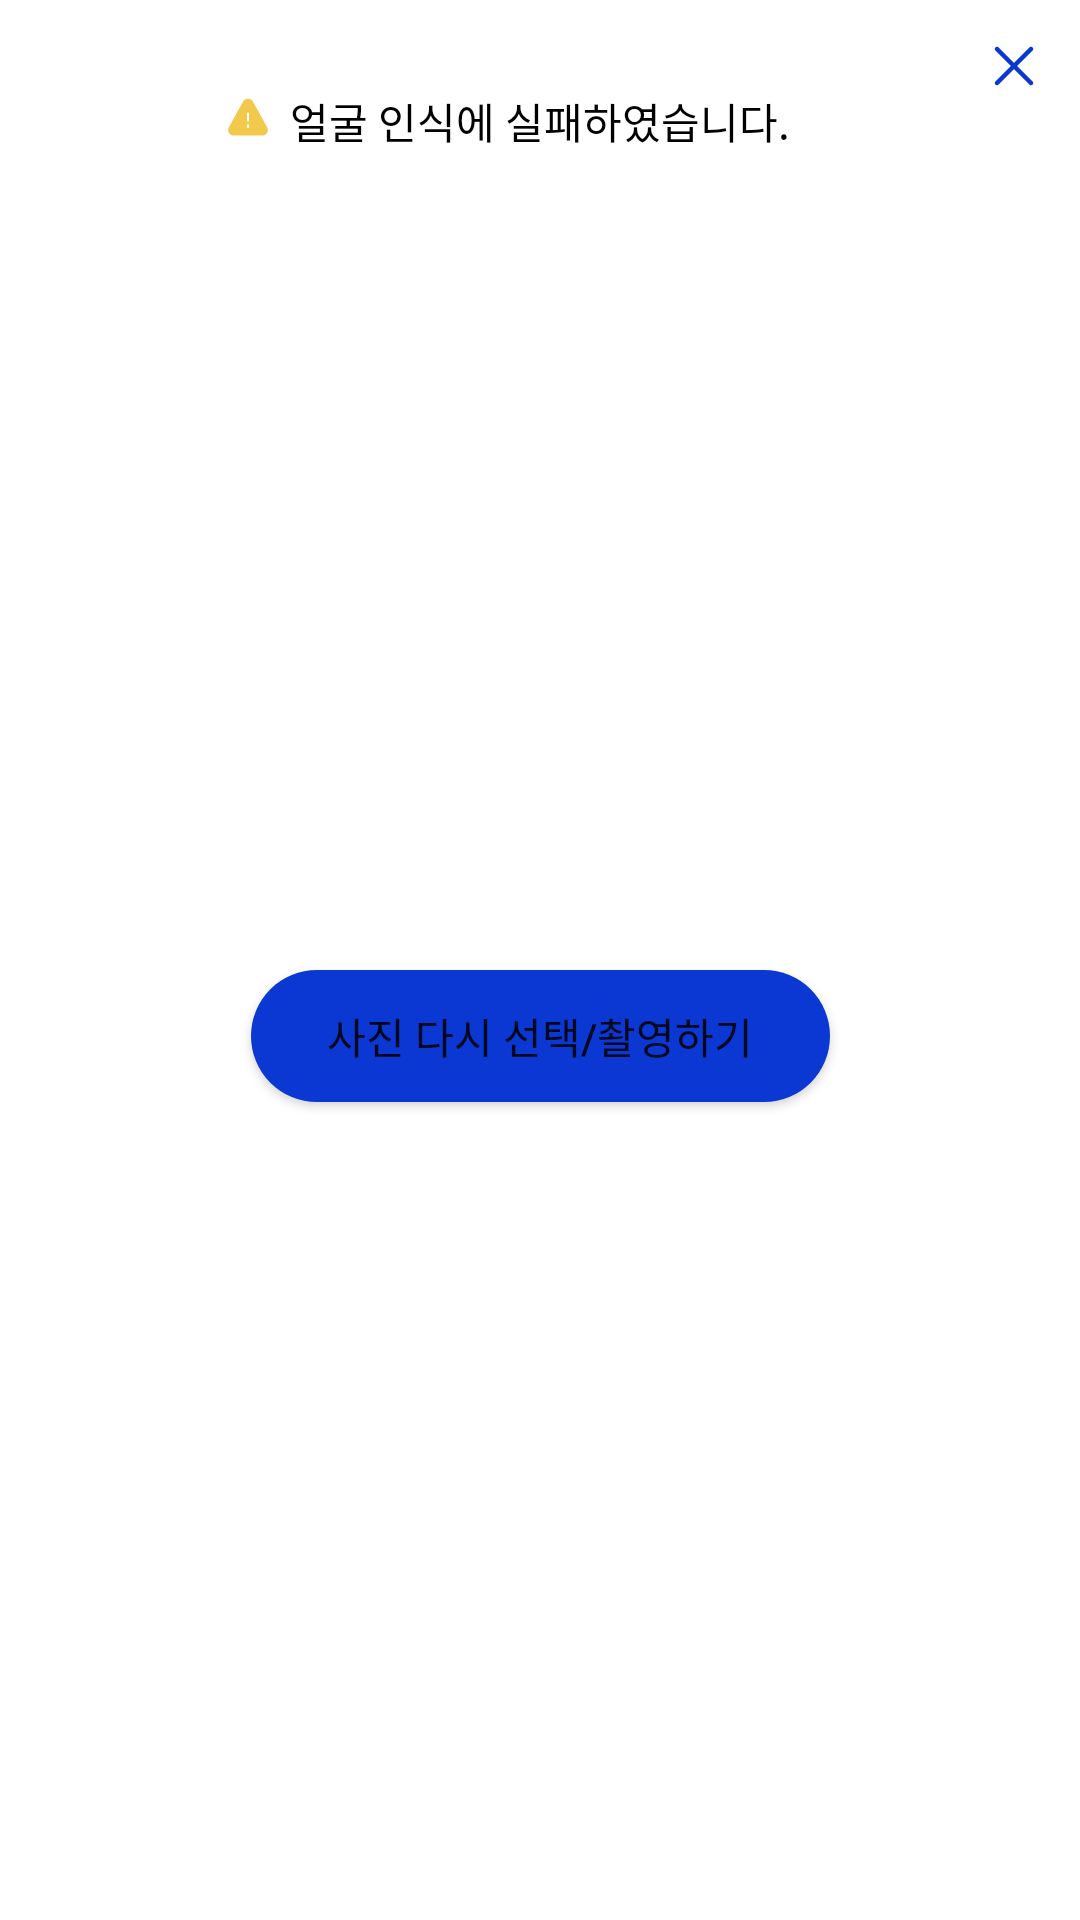

Icon click points for this 1080 x 1920 phone screenshot, format (x,y):
close: (1014,66)
warning: (248,117)
